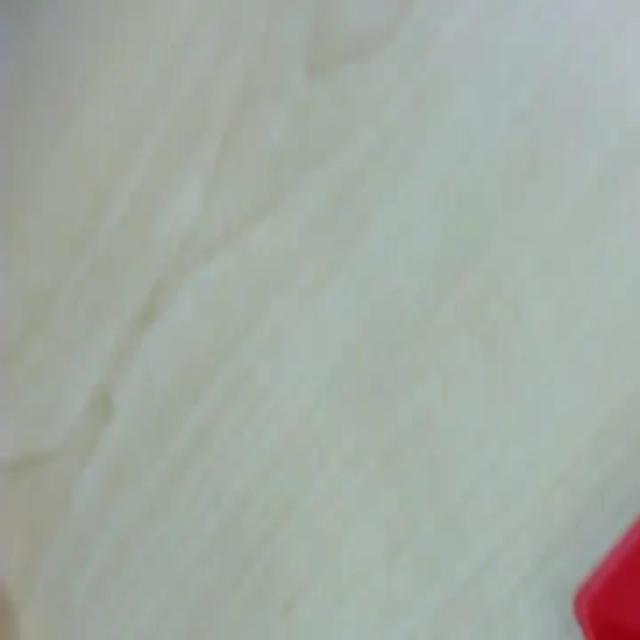red_block: (572, 514, 638, 638)
